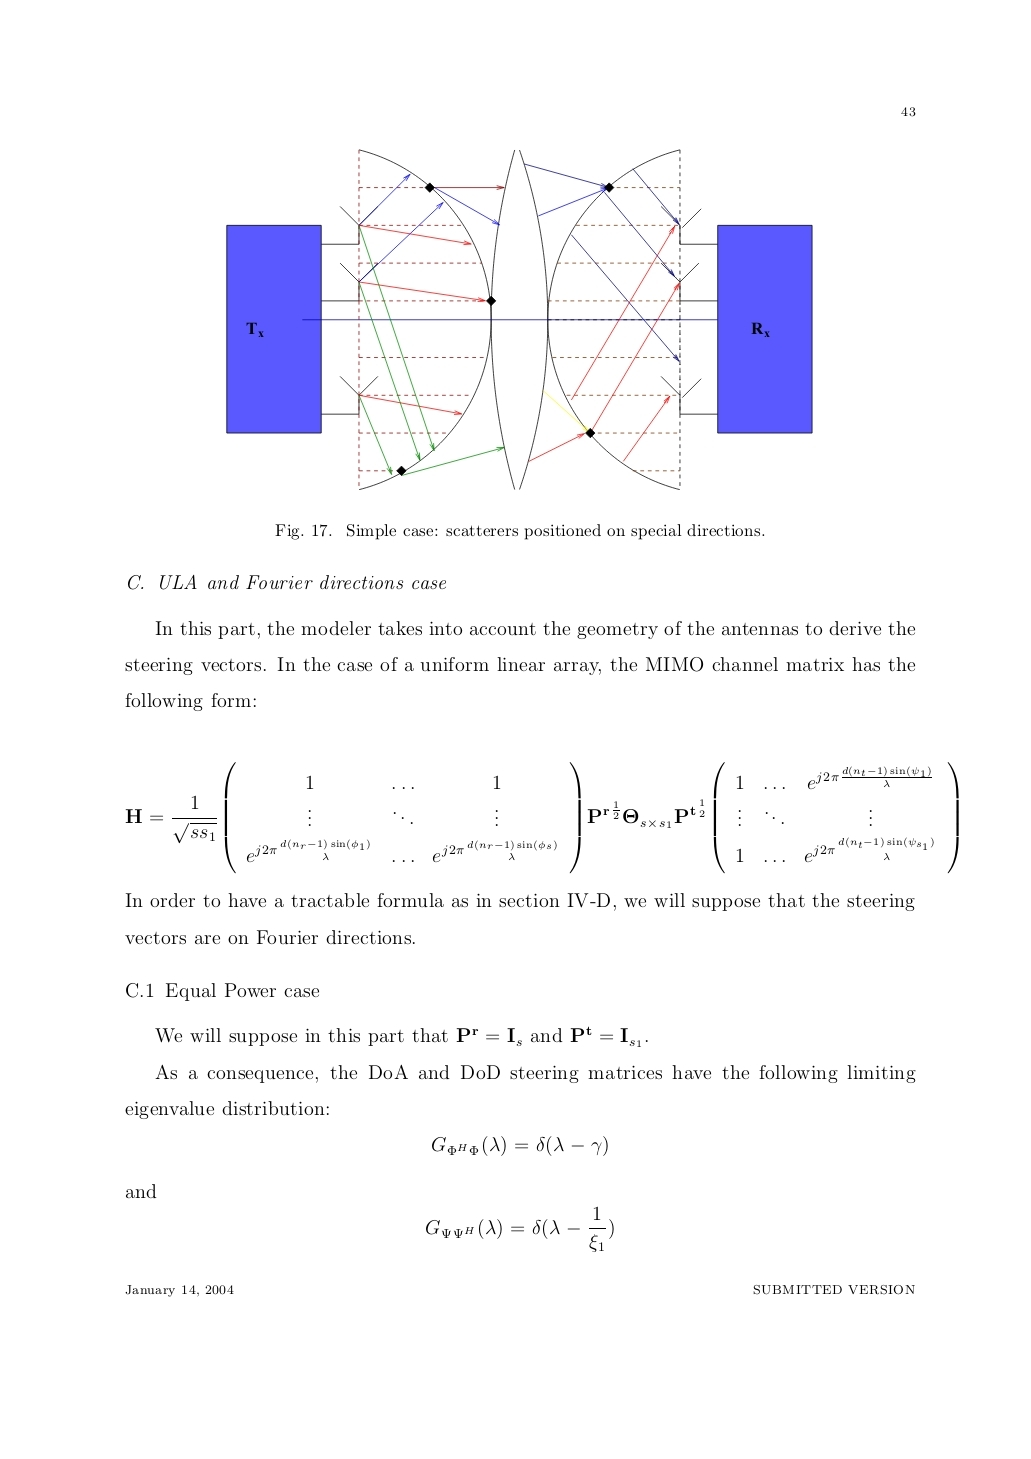figure: (227, 148, 812, 490)
formula: (125, 761, 958, 875), (426, 1205, 613, 1252), (432, 1136, 607, 1156)
